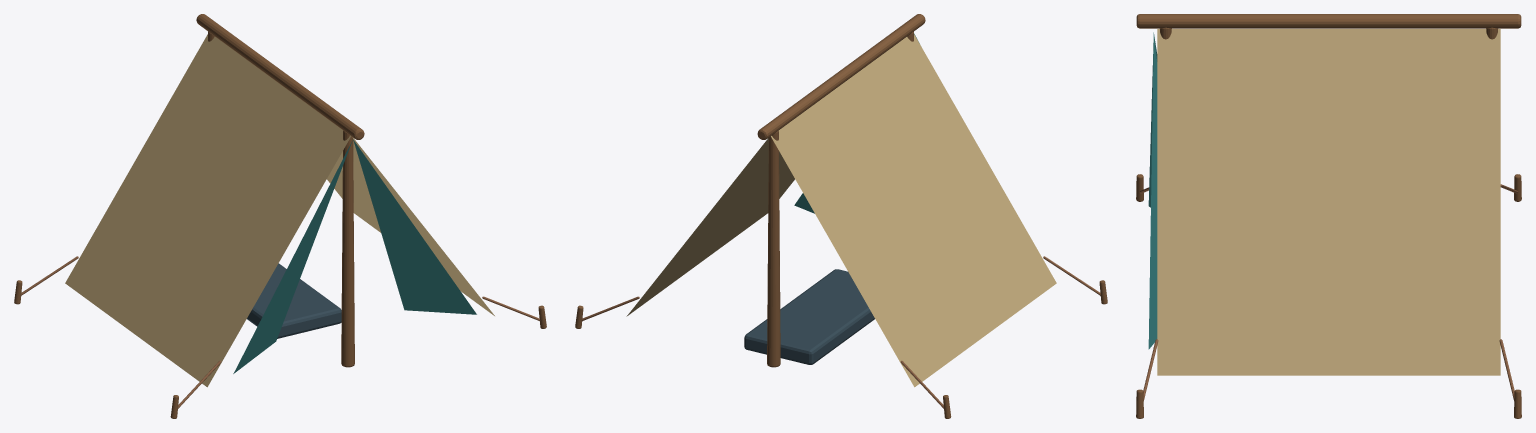
File: camp_tent.glb
3 views of the same model, side by side, from view 1: azimuth 30°, elevation 25°; view 2: azimuth 150°, elevation 25°; view 3: azimuth 270°, elevation 25° (orthographic). The views are drawn at different scales.
Visible parts, largest first — view 1: CanvasSheet.001, OpenFlap.001, TentPole.001, Bedroll.003, GuyRope.001; view 2: CanvasSheet.001, Bedroll.003, TentPole.001, GuyRope.001; view 3: CanvasSheet.001, TentPole.001, OpenFlap.001, GuyRope.001.
Boxes of the visible parts, x1,y1,x2,y2 form: CanvasSheet.001: [65, 34, 494, 387]; OpenFlap.001: [233, 140, 476, 373]; TentPole.001: [14, 14, 546, 418]; Bedroll.003: [247, 263, 341, 338]; GuyRope.001: [21, 256, 540, 408]; CanvasSheet.001: [626, 34, 1056, 387]; Bedroll.003: [744, 269, 874, 364]; TentPole.001: [575, 14, 1107, 418]; GuyRope.001: [581, 256, 1100, 408]; CanvasSheet.001: [1157, 29, 1500, 375]; TentPole.001: [1136, 14, 1521, 418]; OpenFlap.001: [1148, 32, 1157, 349]; GuyRope.001: [1139, 184, 1518, 400].
Size of the model in its own units: 3.04 by 1.9 by 2.25.
